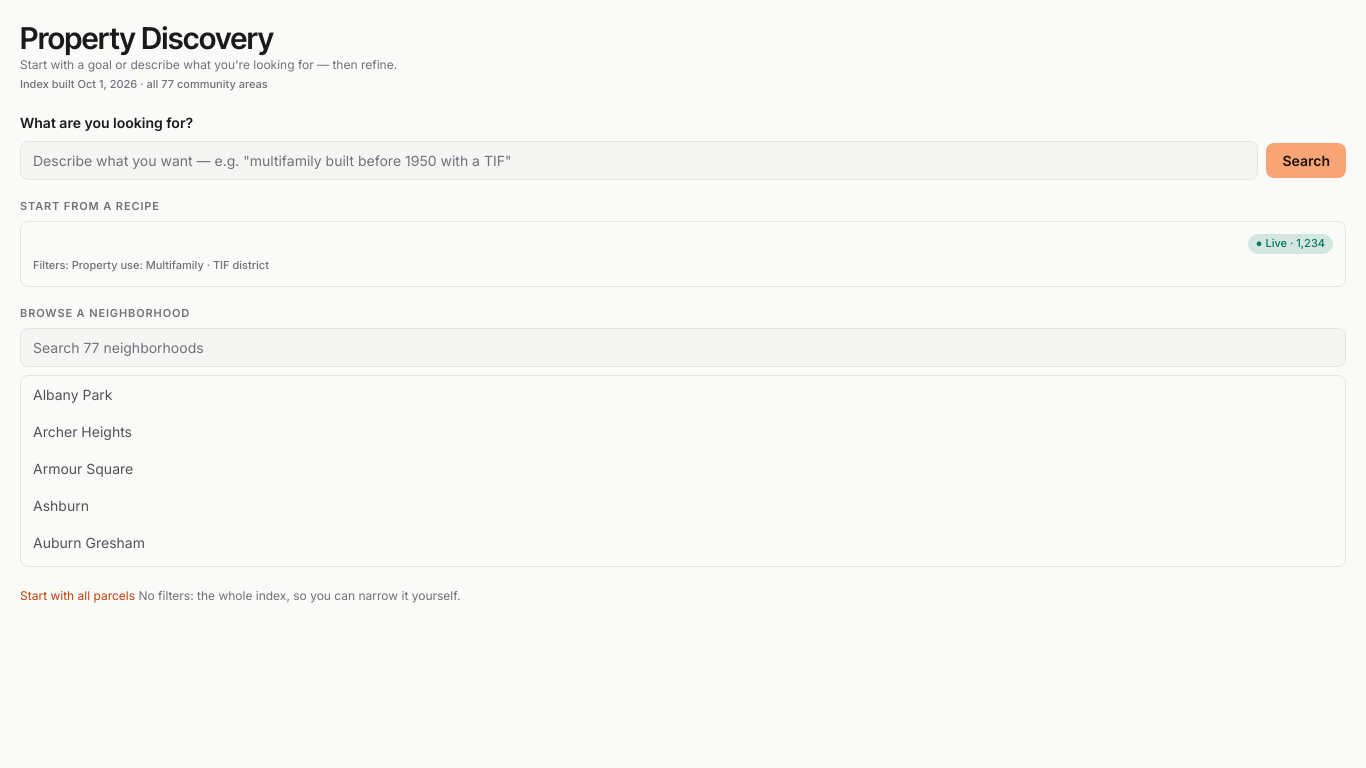
Scenario: StartPanel › says so when no neighborhood matches
Type "zzzz" into the field named "Search neighborhoods".
click(683, 348); type("zzzz")  # box [20,328,1346,367]
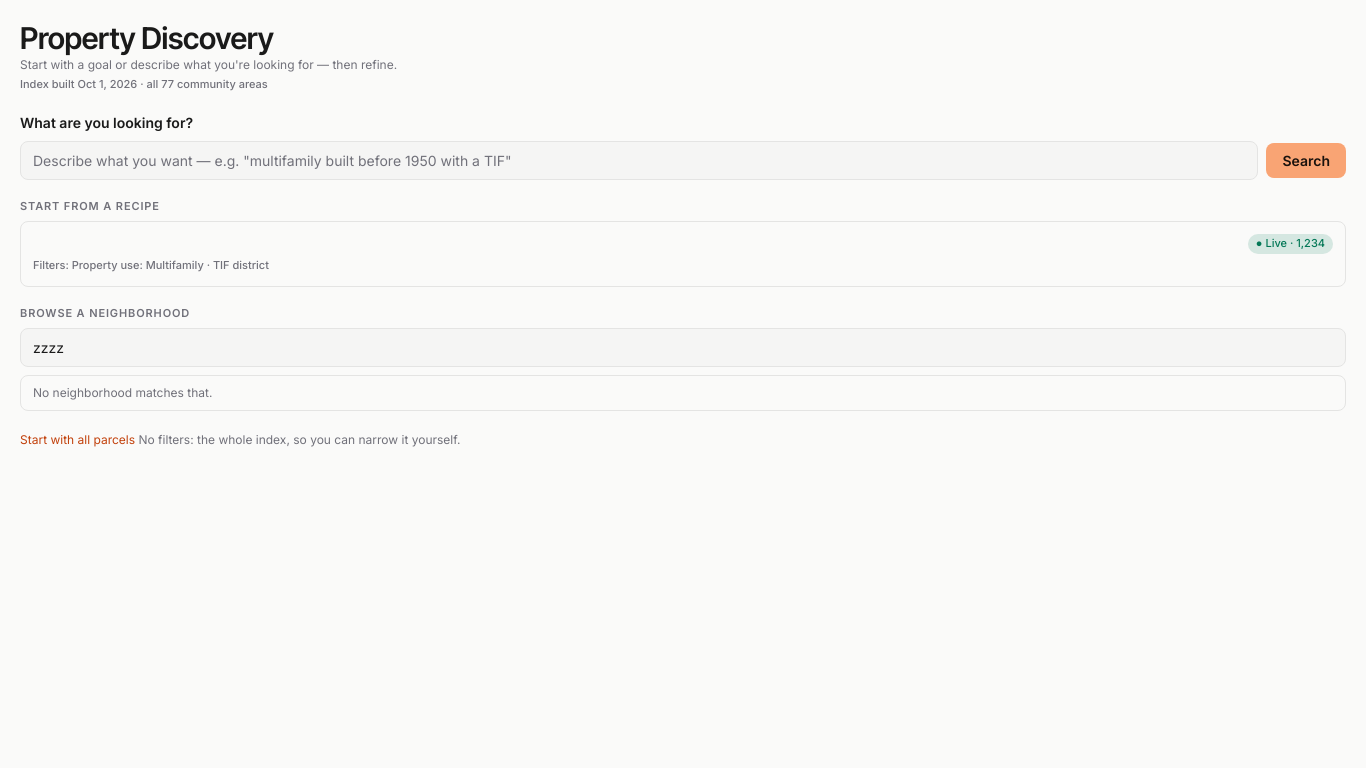
Expected: the list item "No neighborhood matches that." is shown, [33,385,212,400]
